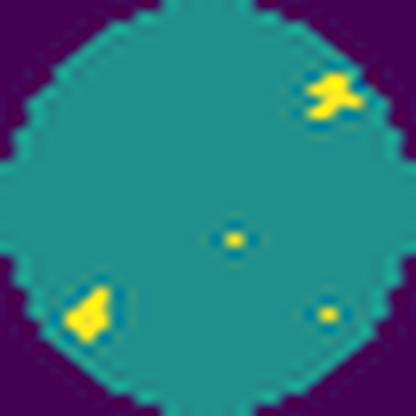Loc: (297, 67, 363, 122), (62, 285, 114, 348)
